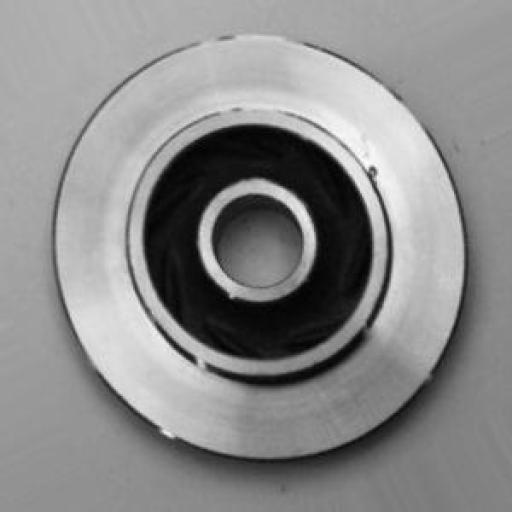defect: (350, 114, 404, 220)
